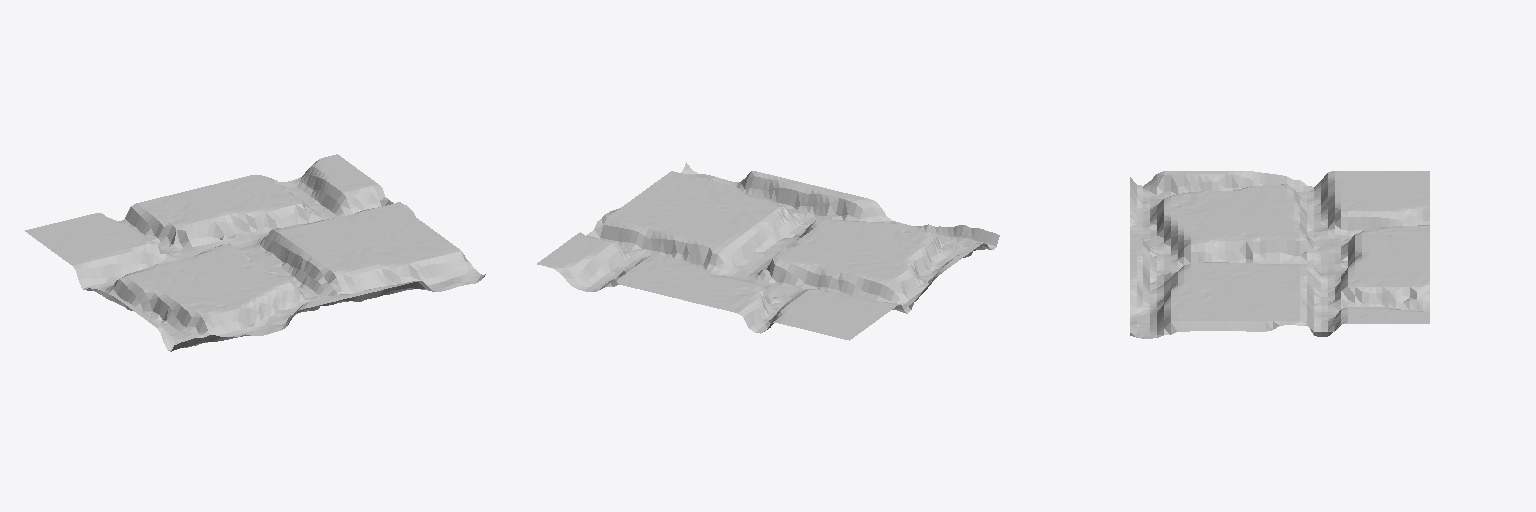
File: cobbleS.obj
The picture shows the model from 3 angles: view 1: azimuth 30°, elevation 25°; view 2: azimuth 150°, elevation 25°; view 3: azimuth 270°, elevation 25°; orthographic projection.
Parts seen in each view (by area): view 1: CobbleStones:Mesh; view 2: CobbleStones:Mesh; view 3: CobbleStones:Mesh.
Boxes of the visible parts, x1=… form: CobbleStones:Mesh: x1=25, y1=154, x2=485, y2=351; CobbleStones:Mesh: x1=537, y1=162, x2=999, y2=340; CobbleStones:Mesh: x1=1130, y1=171, x2=1429, y2=338.
Size of the model in its own units: 2.86 by 0.1511 by 2.38.